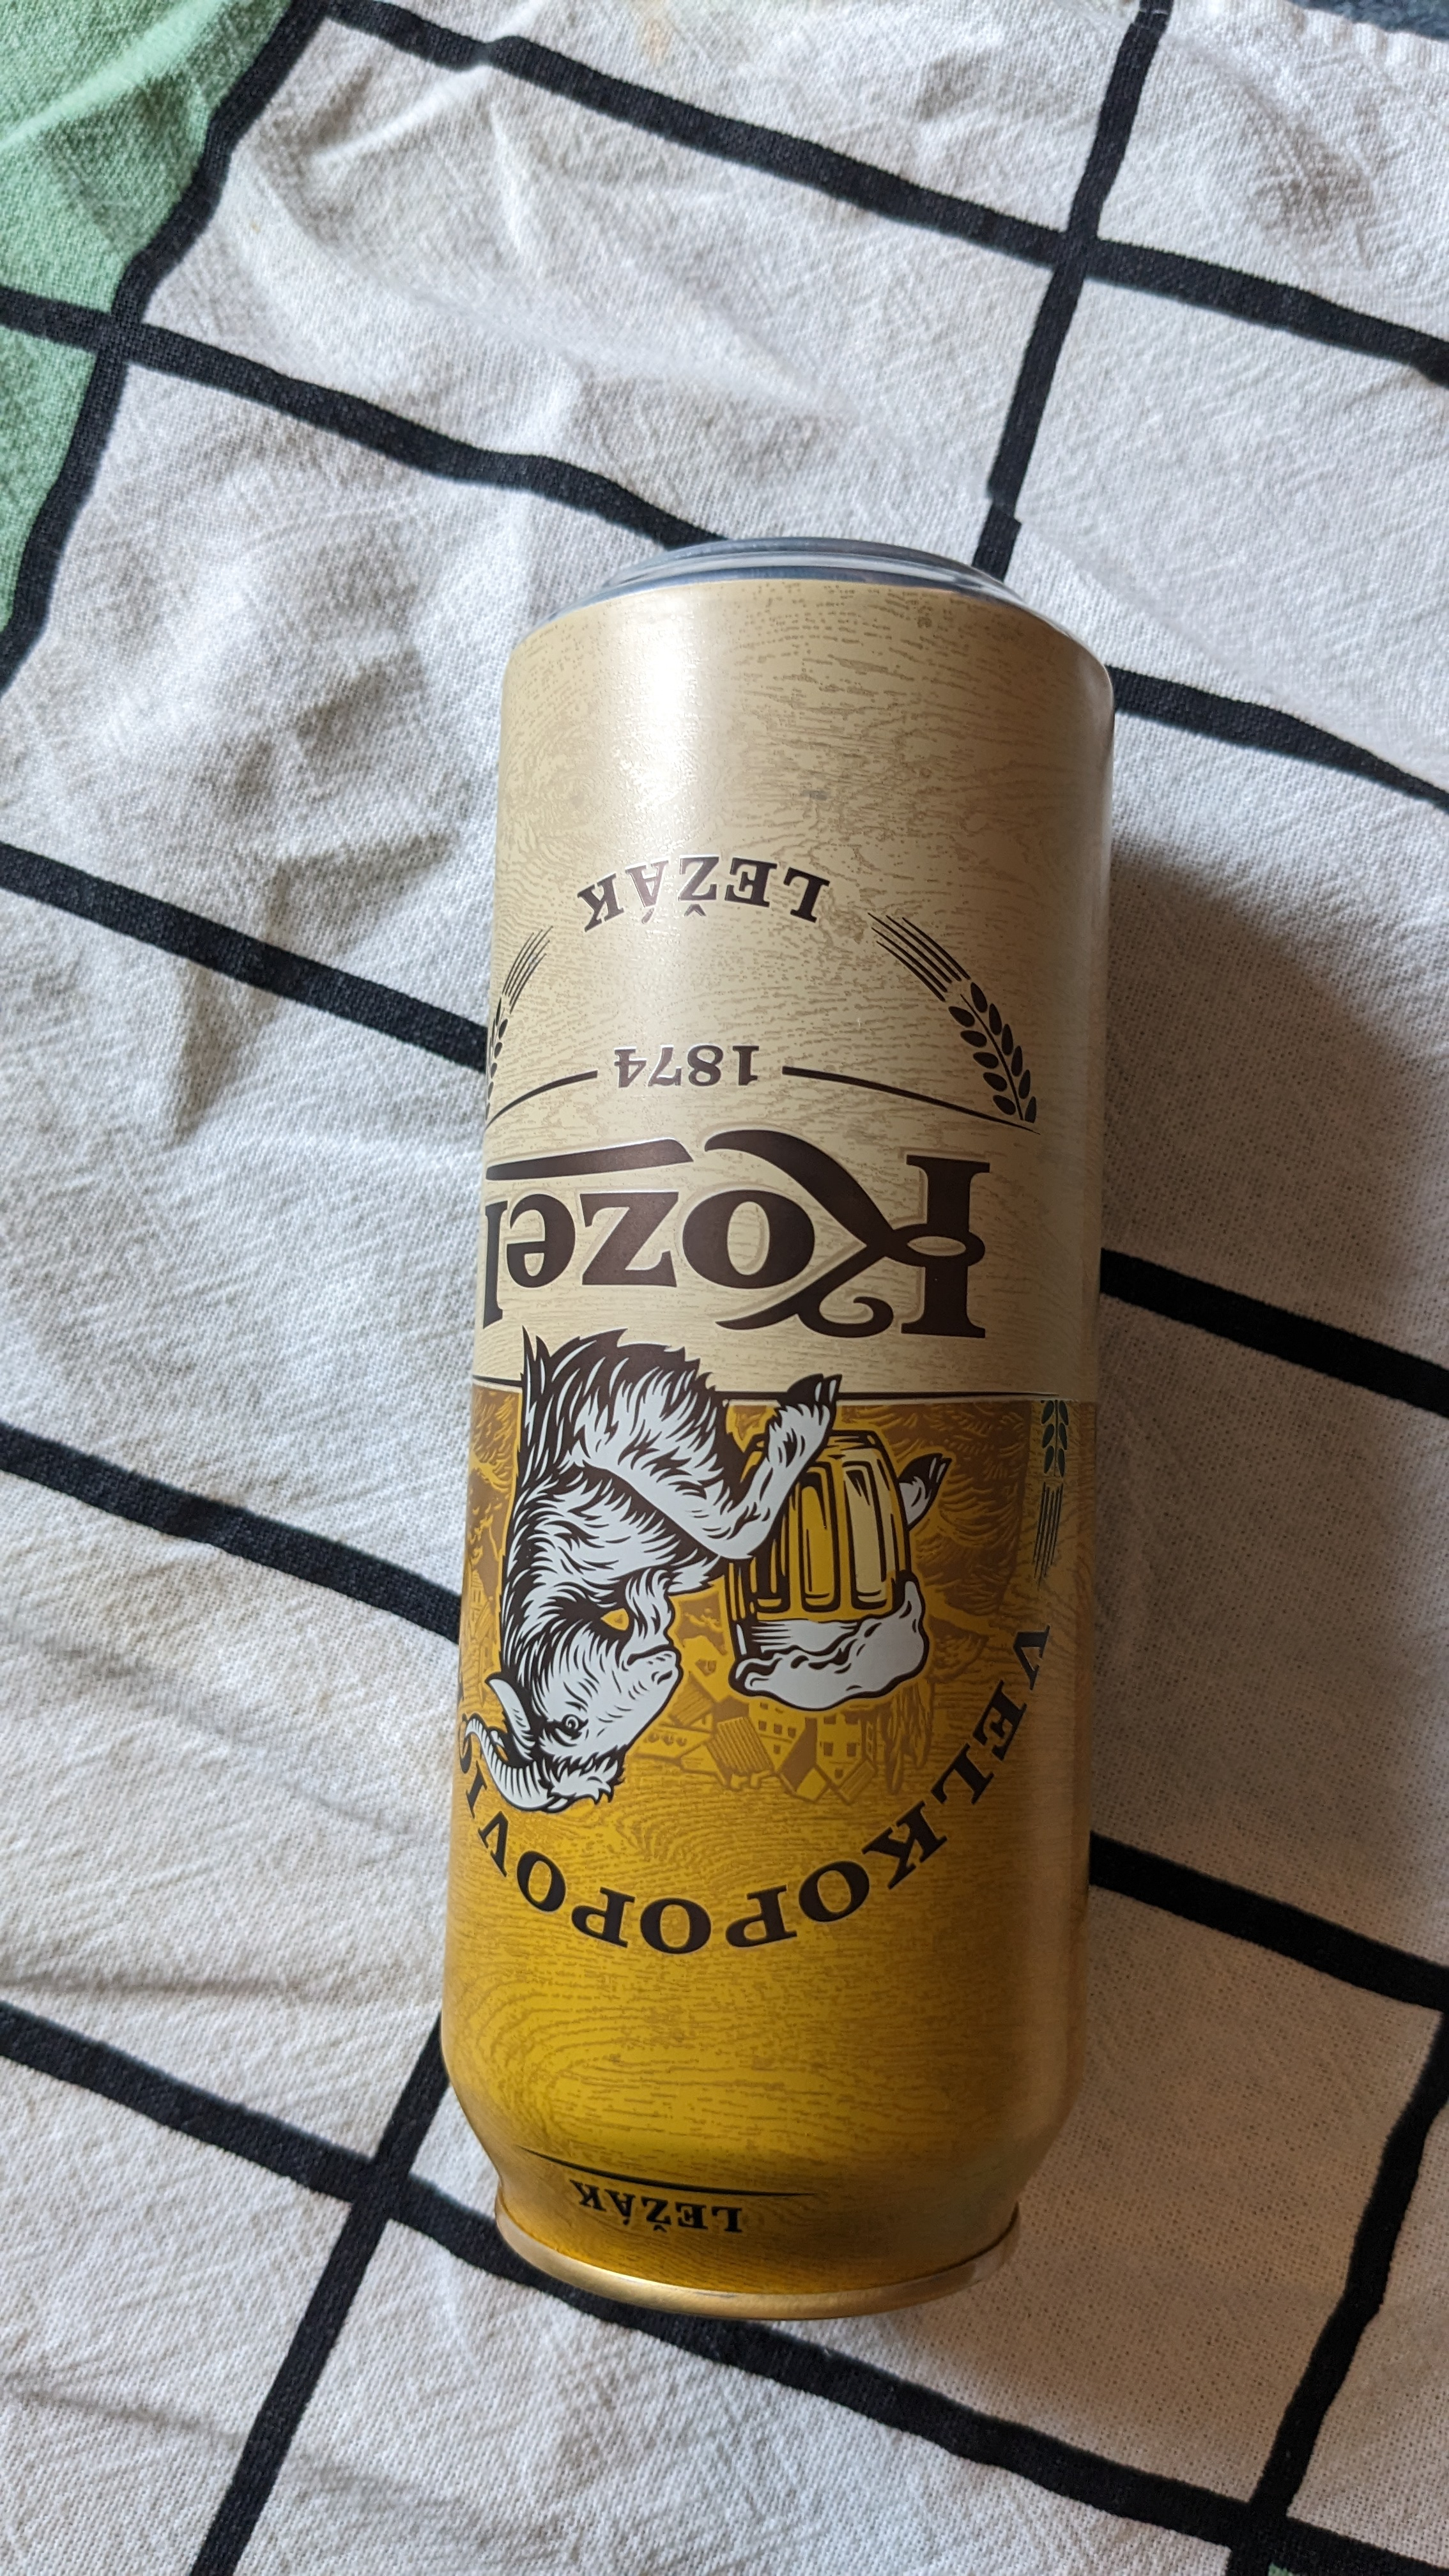kozel: (414, 529, 1132, 2367)
